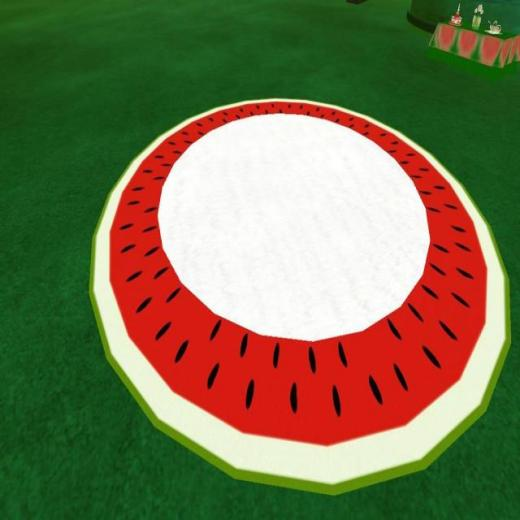Cherry: (86, 93, 510, 496)
